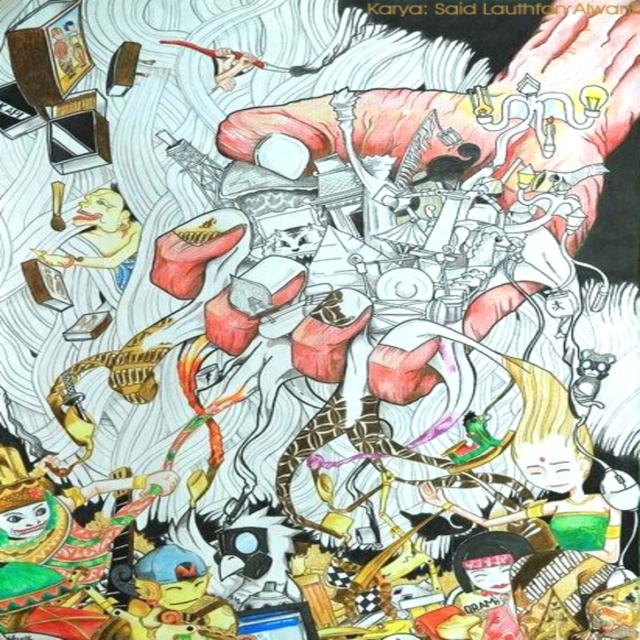Person: (414, 358, 640, 564), (0, 477, 180, 633), (29, 184, 149, 288), (120, 541, 238, 640), (455, 530, 539, 640)
